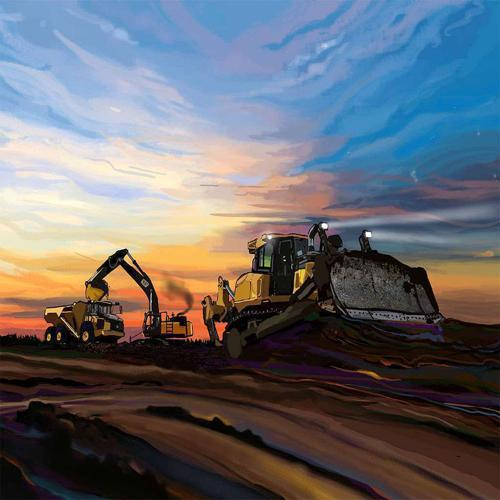con_eq: (201, 224, 455, 372), (87, 249, 198, 352), (40, 297, 127, 349)
